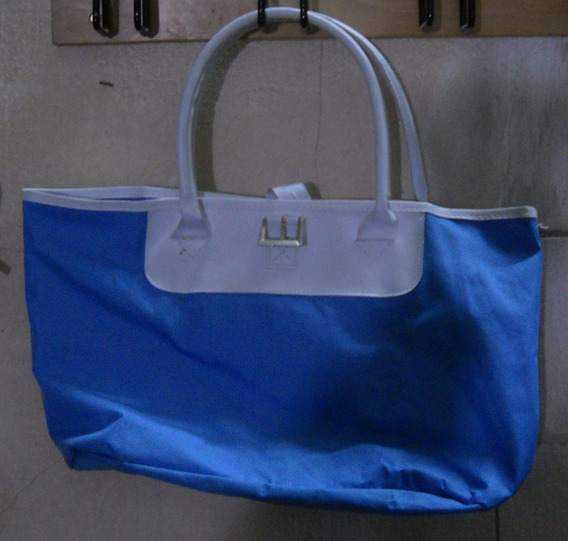cartera: (21, 6, 546, 514)
